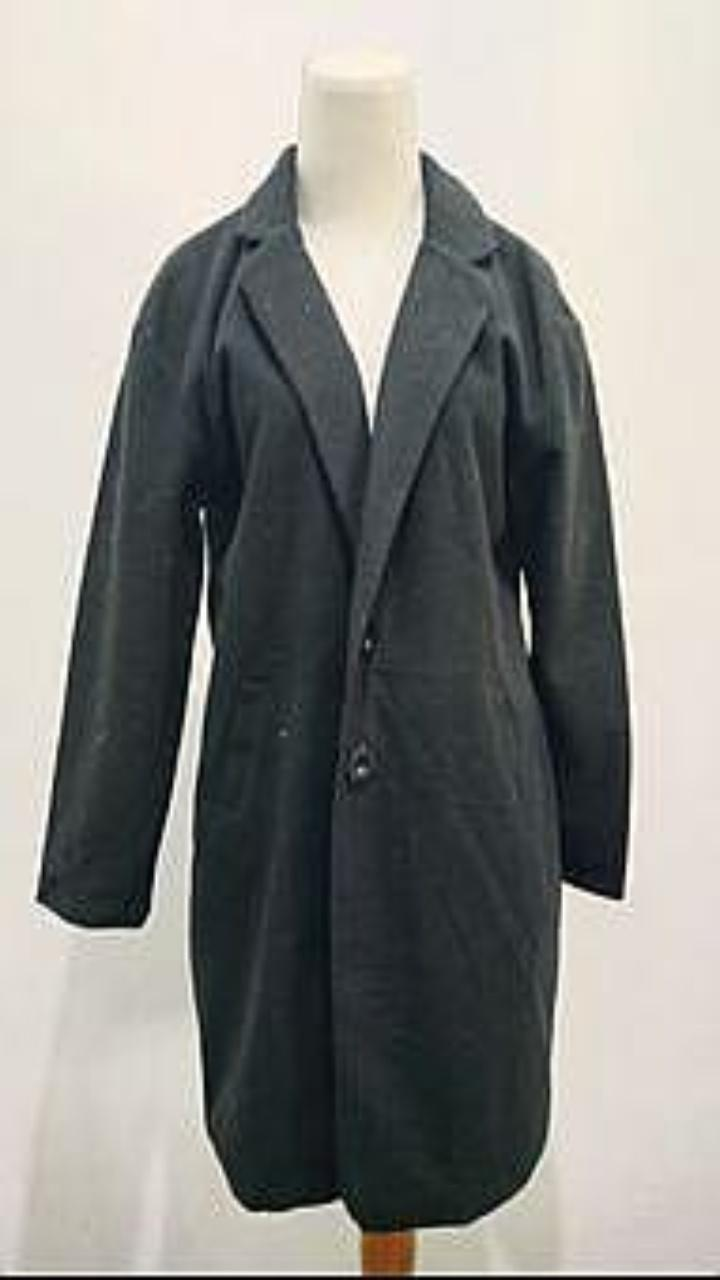Coat: (36, 143, 629, 1230)
